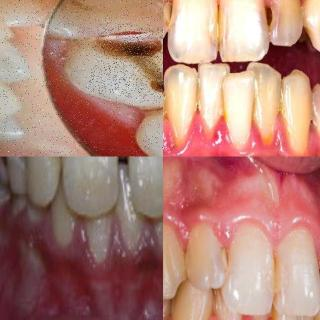Gum Swelling: (163, 112, 262, 156), (204, 207, 255, 248), (257, 211, 302, 254), (163, 207, 204, 251), (302, 217, 320, 259)
cavities: (92, 28, 163, 106), (205, 6, 231, 46), (256, 0, 282, 35), (215, 241, 239, 277), (163, 0, 186, 36), (305, 100, 320, 138), (315, 258, 320, 289)
maligned: (246, 61, 284, 141), (222, 70, 256, 155), (164, 64, 198, 144), (196, 60, 227, 144)
plaque: (211, 92, 231, 136), (271, 86, 290, 132), (243, 95, 263, 137), (0, 177, 12, 226), (163, 93, 175, 127)
